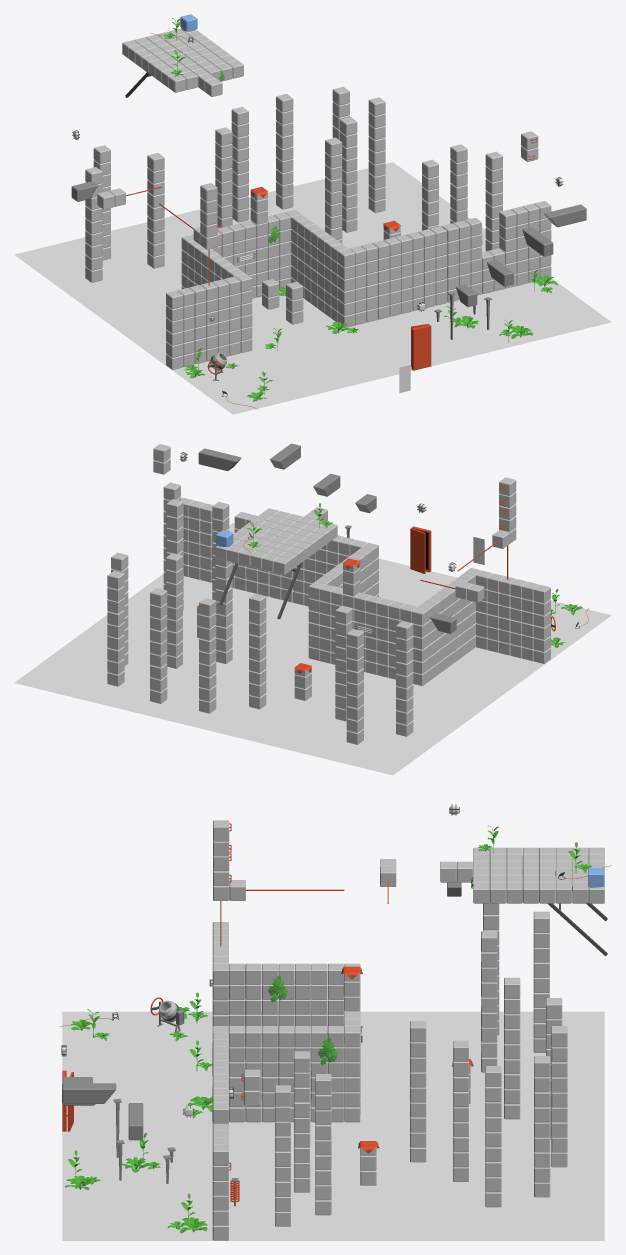
Rendered from map2.fbx.
3 views of the same model, one above another, from view 1: azimuth 30°, elevation 25°; view 2: azimuth 150°, elevation 25°; view 3: azimuth 270°, elevation 25° (orthographic). The views are drawn at different scales.
Visible parts, largest first — view 1: Cube.006, Module_01.004, Module_01.003, Module_01.006, Module_01.005, Module_01.011, Module_01.046, Module_01.017, Module_01.015, Module_01.021, Module_01.018, Module_01.007 (+16 smaller); view 2: Cube.006, Module_01.003, Module_01.006, Module_01.007, Module_01.004, Module_01.011, Module_01.016, Module_01.019, Module_01.005, Module_01.017, Module_01.018, Module_01.022 (+17 smaller); view 3: Cube.006, Module_01.005, Module_01.007, Module_01.019, Module_01.002, Module_01.015, Module_01.017, Module_01.013, Module_01.016, Module_01.009, Module_01.021, Module_01.008 (+22 smaller).
Part boxes in pixels (bbox=[...]): Cube.006: bbox=[14, 162, 611, 414]; Module_01.004: bbox=[338, 226, 447, 327]; Module_01.003: bbox=[166, 273, 252, 369]; Module_01.006: bbox=[193, 212, 290, 298]; Module_01.005: bbox=[285, 209, 348, 322]; Module_01.011: bbox=[499, 201, 551, 288]; Module_01.046: bbox=[441, 217, 482, 302]; Module_01.017: bbox=[276, 94, 293, 209]; Module_01.015: bbox=[368, 97, 385, 212]; Module_01.021: bbox=[147, 153, 164, 268]; Module_01.018: bbox=[231, 106, 248, 222]; Module_01.007: bbox=[181, 235, 244, 288]; Cube.006: bbox=[14, 523, 611, 775]; Module_01.003: bbox=[465, 568, 550, 663]; Module_01.006: bbox=[319, 584, 417, 679]; Module_01.007: bbox=[411, 573, 475, 686]; Module_01.004: bbox=[269, 535, 378, 606]; Module_01.011: bbox=[180, 497, 213, 582]; Module_01.016: bbox=[107, 571, 124, 686]; Module_01.019: bbox=[249, 593, 266, 709]; Module_01.005: bbox=[308, 547, 372, 660]; Module_01.017: bbox=[150, 588, 167, 703]; Module_01.018: bbox=[199, 598, 216, 713]; Module_01.022: bbox=[346, 629, 363, 744]; Cube.006: bbox=[62, 1011, 604, 1240]; Module_01.005: bbox=[228, 1026, 360, 1122]; Module_01.007: bbox=[229, 963, 360, 1058]; Module_01.019: bbox=[504, 977, 520, 1119]; Module_01.002: bbox=[315, 1074, 331, 1215]; Module_01.015: bbox=[485, 1066, 501, 1207]; Module_01.017: bbox=[551, 1026, 567, 1167]; Module_01.013: bbox=[410, 1021, 426, 1162]; Module_01.016: bbox=[534, 1056, 550, 1197]; Module_01.009: bbox=[294, 1051, 310, 1192]; Module_01.021: bbox=[481, 931, 497, 1072]; Module_01.008: bbox=[275, 1085, 290, 1226].
Size of the model in its own units: 3024 by 1577 by 3309.
